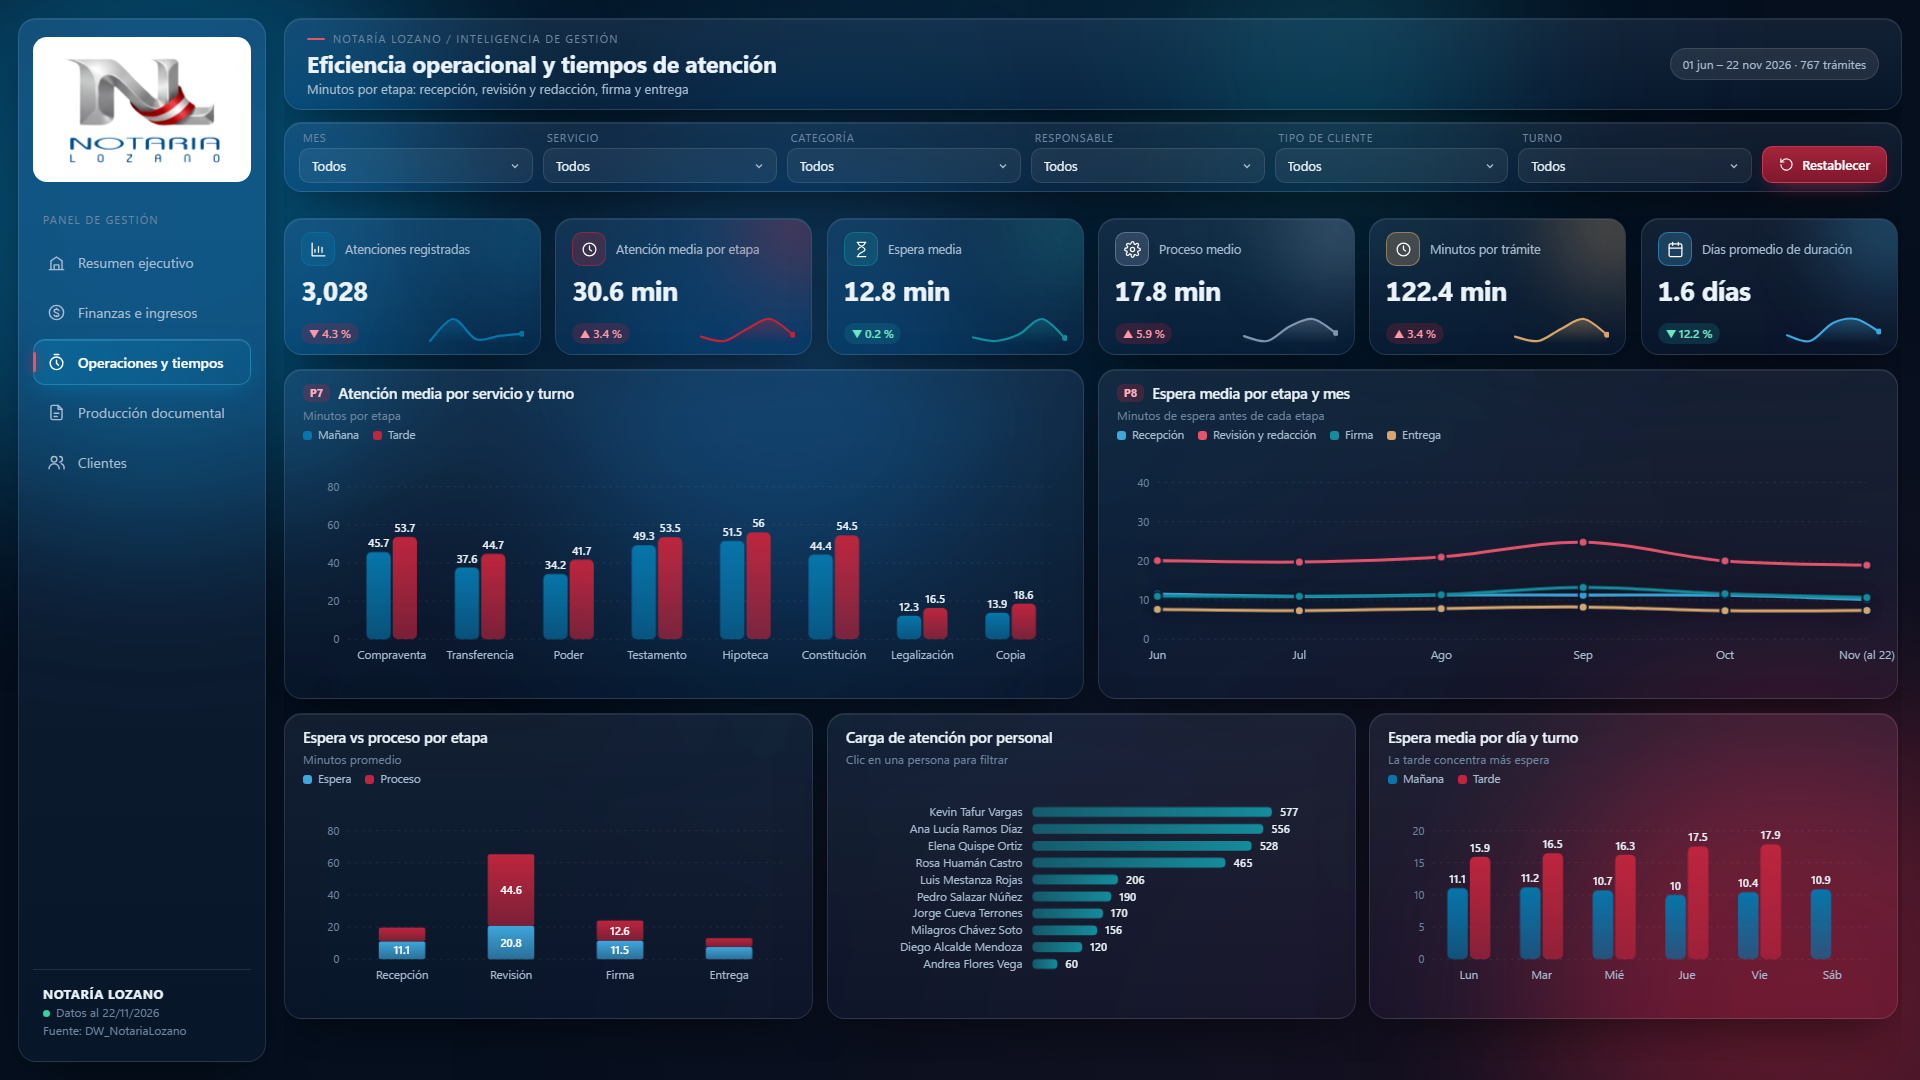

What the dashboard file says about the page in this screenshot:
{"tool":"powerbi","page":{"name":"Eficiencia operacional y tiempos de atención","canvas":[1920,1280],"ordinal":1},"visuals":[{"type":"textbox","box":[302,67,1400,52],"z":0},{"type":"textbox","box":[304,123,1450,40],"z":1},{"type":"slicer","fields":{"Values":["DIM_TIEMPO.Anio"]},"box":[296,216,303.2,61],"z":3},{"type":"slicer","fields":{"Values":["DIM_TIEMPO.Nombre_Mes"]},"box":[613.2,216,303.2,61],"z":4},{"type":"slicer","fields":{"Values":["DIM_SERVICIO.Nombre_Tramite"]},"box":[930.4,216,303.2,61],"z":5},{"type":"slicer","fields":{"Values":["DIM_ETAPA_TRAMITE.Nombre_Etapa"]},"box":[1247.6,216,303.2,61],"z":6},{"type":"slicer","fields":{"Values":["DIM_PERSONAL.Nombre_Completo"]},"box":[1564.8,216,303.2,61],"z":7},{"type":"card","fields":{"Values":["FACT_TIEMPOS_ATENCION.Atencion media minutos"]},"box":[280,310,308,122],"z":8},{"type":"card","fields":{"Values":["FACT_TIEMPOS_ATENCION.Atenciones registradas"]},"box":[604,310,308,122],"z":9},{"type":"card","fields":{"Values":["FACT_TIEMPOS_ATENCION.Atencion minima minutos"]},"box":[928,310,308,122],"z":10},{"type":"card","fields":{"Values":["FACT_TIEMPOS_ATENCION.Atencion maxima minutos"]},"box":[1252,310,308,122],"z":11},{"type":"card","fields":{"Values":["FACT_TIEMPOS_ATENCION.Espera media minutos"]},"box":[1576,310,308,122],"z":12},{"type":"textbox","box":[295.5,1232.6,1580.2,17.4],"z":13},{"type":"lineChart","title":"Evolución mensual de la atención media","fields":{"Category":["DIM_TIEMPO.Nombre_Mes"],"Y":["FACT_TIEMPOS_ATENCION.Atencion media minutos"]},"box":[306,494,492,214],"z":14},{"type":"clusteredBarChart","title":"Atención media por servicio","fields":{"Category":["DIM_SERVICIO.Nombre_Tramite"],"Y":["FACT_TIEMPOS_ATENCION.Atencion media minutos"]},"box":[846,494,492,214],"z":15},{"type":"clusteredBarChart","title":"Atención media por responsable","fields":{"Category":["DIM_PERSONAL.Nombre_Completo"],"Y":["FACT_TIEMPOS_ATENCION.Atencion media minutos"]},"box":[1386,494,492,214],"z":16},{"type":"clusteredColumnChart","title":"Atenciones registradas por mes","fields":{"Category":["DIM_TIEMPO.Nombre_Mes"],"Y":["FACT_TIEMPOS_ATENCION.Atenciones registradas"]},"box":[306,744,492,214],"z":17},{"type":"clusteredColumnChart","title":"Frecuencia por duración declarada (min)","fields":{"Category":["FACT_TIEMPOS_ATENCION.Minutos_Totales"],"Y":["FACT_TIEMPOS_ATENCION.Atenciones registradas"]},"box":[846,744,492,214],"z":18},{"type":"clusteredBarChart","title":"Espera media por etapa","fields":{"Category":["DIM_ETAPA_TRAMITE.Nombre_Etapa"],"Y":["FACT_TIEMPOS_ATENCION.Espera media minutos"]},"box":[1386,744,492,214],"z":19},{"type":"tableEx","title":"Detalle operativo agrupado · duración declarada y carga de trabajo","fields":{"Values":["DIM_TIEMPO.Fecha_Exacta","DIM_SERVICIO.Nombre_Tramite","DIM_PERSONAL.Nombre_Completo","DIM_ETAPA_TRAMITE.Nombre_Etapa","FACT_TIEMPOS_ATENCION.Atenciones registradas","FACT_TIEMPOS_ATENCION.Atencion media minutos","FACT_TIEMPOS_ATENCION.Espera media minutos","FACT_TIEMPOS_ATENCION.Proceso medio minutos"]},"box":[295.5,979.8,1572.3,270.2],"z":20},{"type":"actionButton","box":[24,685,196,44],"z":23},{"type":"actionButton","box":[24,260,196,76],"z":40},{"type":"actionButton","box":[24,352,196,76],"z":41},{"type":"actionButton","box":[24,444,196,76],"z":42}]}

Visuals, with their boxes on the page's 1920x1280 design canvas (x1, y1, x2, y2). These are canvas units, not pixel positions in the 1920x1080 screenshot, which may show the page scaled, cropped or inside an application window:
textbox: 302 67 1702 119
textbox: 304 123 1754 163
slicer - DIM_TIEMPO.Anio: 296 216 599 277
slicer - DIM_TIEMPO.Nombre_Mes: 613 216 916 277
slicer - DIM_SERVICIO.Nombre_Tramite: 930 216 1234 277
slicer - DIM_ETAPA_TRAMITE.Nombre_Etapa: 1248 216 1551 277
slicer - DIM_PERSONAL.Nombre_Completo: 1565 216 1868 277
card - FACT_TIEMPOS_ATENCION.Atencion media minutos: 280 310 588 432
card - FACT_TIEMPOS_ATENCION.Atenciones registradas: 604 310 912 432
card - FACT_TIEMPOS_ATENCION.Atencion minima minutos: 928 310 1236 432
card - FACT_TIEMPOS_ATENCION.Atencion maxima minutos: 1252 310 1560 432
card - FACT_TIEMPOS_ATENCION.Espera media minutos: 1576 310 1884 432
textbox: 296 1233 1876 1250
"Evolución mensual de la atención media" lineChart: 306 494 798 708
"Atención media por servicio" clusteredBarChart: 846 494 1338 708
"Atención media por responsable" clusteredBarChart: 1386 494 1878 708
"Atenciones registradas por mes" clusteredColumnChart: 306 744 798 958
"Frecuencia por duración declarada (min)" clusteredColumnChart: 846 744 1338 958
"Espera media por etapa" clusteredBarChart: 1386 744 1878 958
"Detalle operativo agrupado · duración declarada y carga de trabajo" tableEx: 296 980 1868 1250
actionButton: 24 685 220 729
actionButton: 24 260 220 336
actionButton: 24 352 220 428
actionButton: 24 444 220 520
